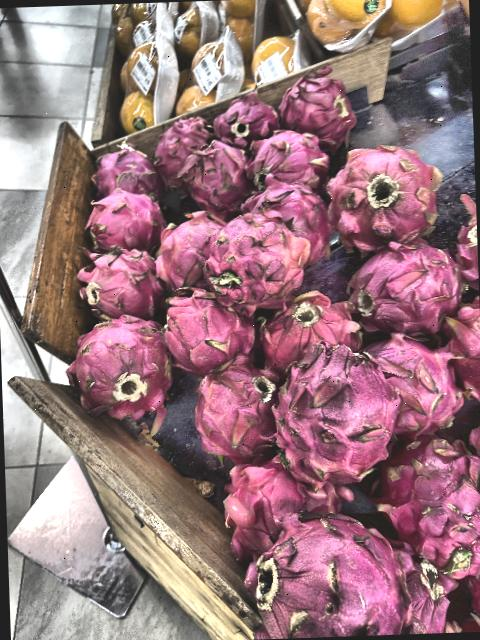buah-naga-belum-matang: (203, 212, 309, 308)
buah-naga-matang: (250, 510, 416, 640), (276, 346, 403, 491), (354, 324, 474, 442), (329, 232, 455, 332), (326, 148, 444, 252), (216, 458, 346, 535), (71, 320, 172, 416), (190, 356, 282, 452), (156, 285, 260, 367), (259, 294, 370, 360), (280, 80, 366, 152), (74, 248, 164, 314), (182, 144, 255, 210), (153, 116, 213, 190), (80, 193, 166, 244), (253, 134, 330, 190), (158, 216, 221, 282), (84, 153, 162, 205), (209, 101, 284, 148)
